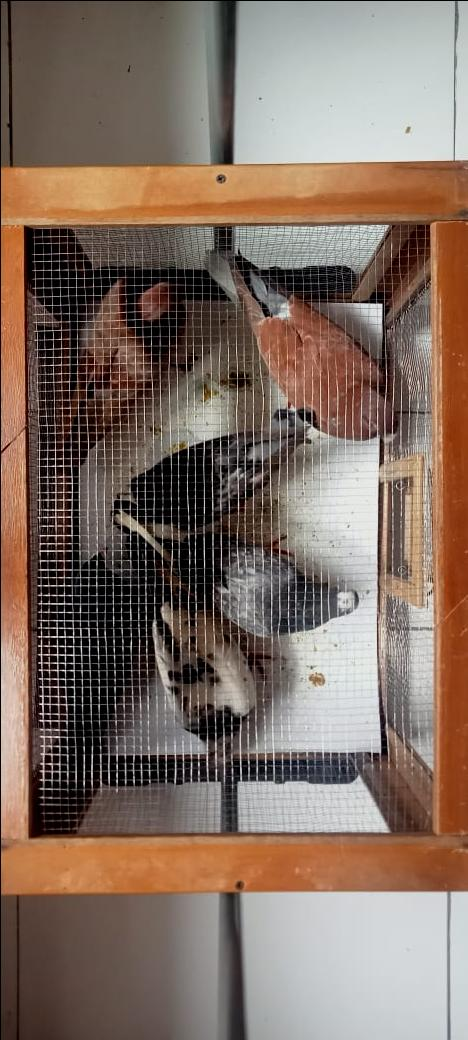Merpati: (203, 249, 395, 444), (110, 497, 359, 637), (122, 538, 258, 774), (58, 270, 187, 468), (130, 408, 316, 528), (51, 547, 139, 759)
